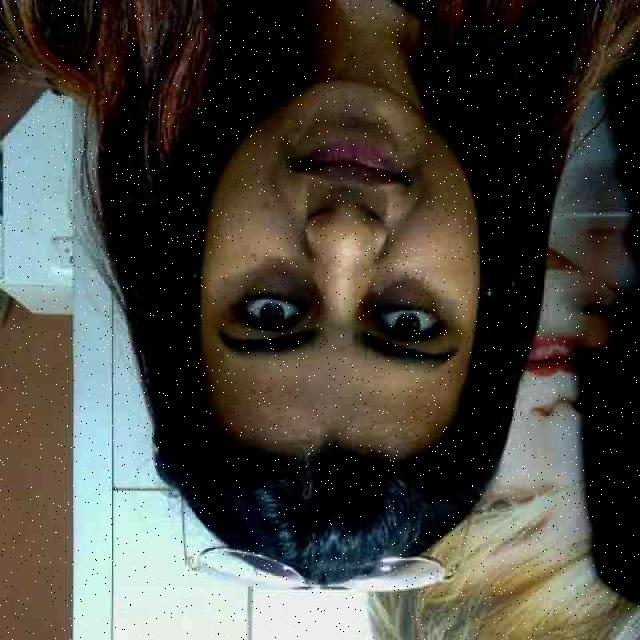puffy_eyes: (243, 274, 315, 311), (367, 282, 438, 309)
